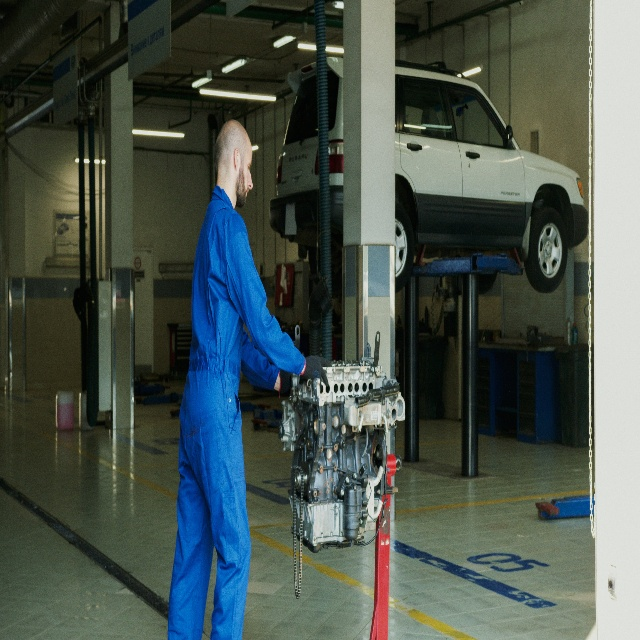Guantes: (300, 354, 331, 388), (279, 369, 292, 397)
